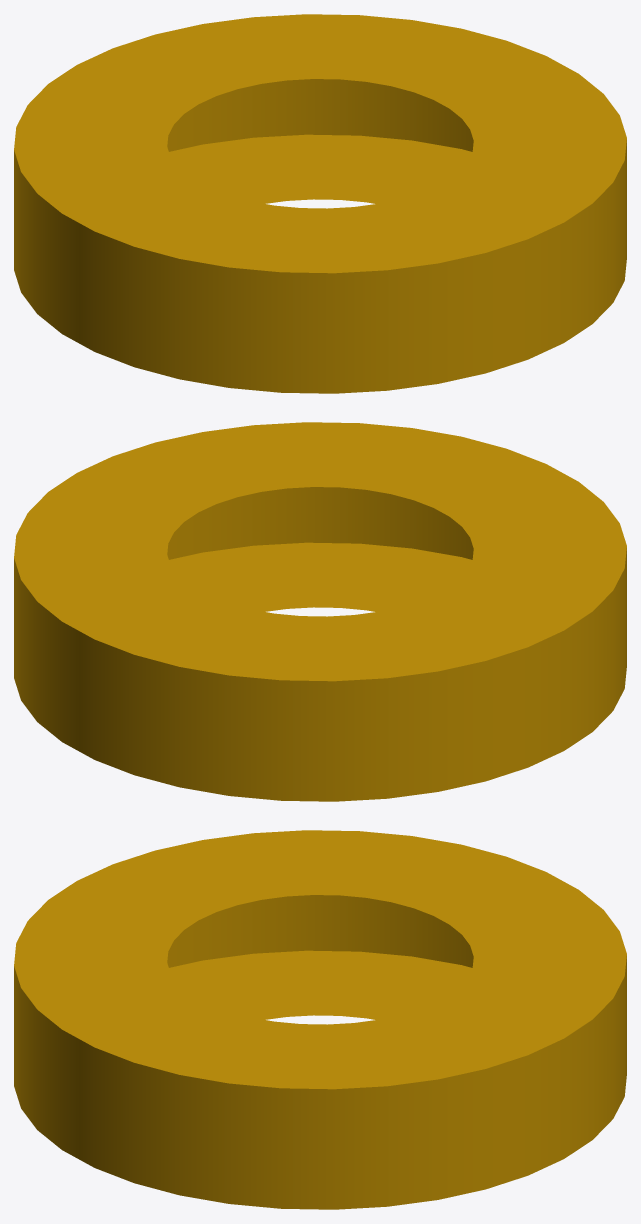
The model's file is original-32.obj.
3 views of the same model, one above another, from view 1: azimuth 30°, elevation 25°; view 2: azimuth 150°, elevation 25°; view 3: azimuth 270°, elevation 25° (orthographic).
Visible parts, largest first — view 1: #ID138; view 2: #ID138; view 3: #ID138.
Part boxes in pixels (x1,y1,x2,y2): #ID138: (14,14,626,393); #ID138: (14,422,626,801); #ID138: (14,830,626,1209).
Size of the model in its own units: 0.0929 by 0.0201 by 0.0929.
